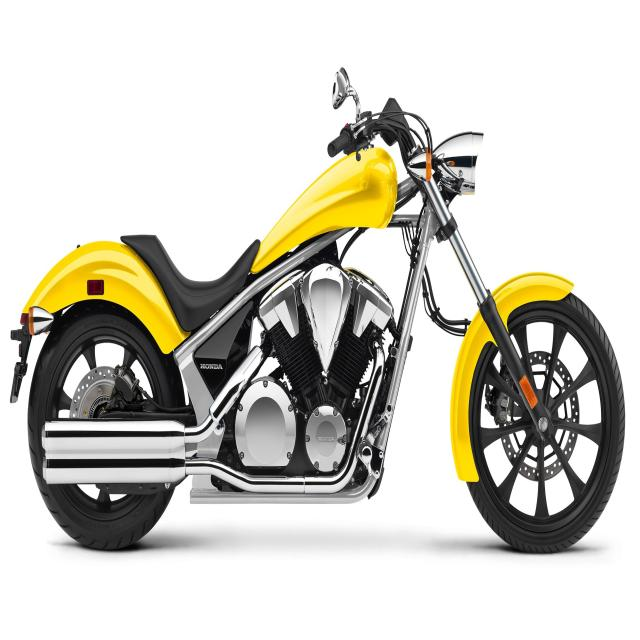Motorcycle: (10, 69, 625, 553)
